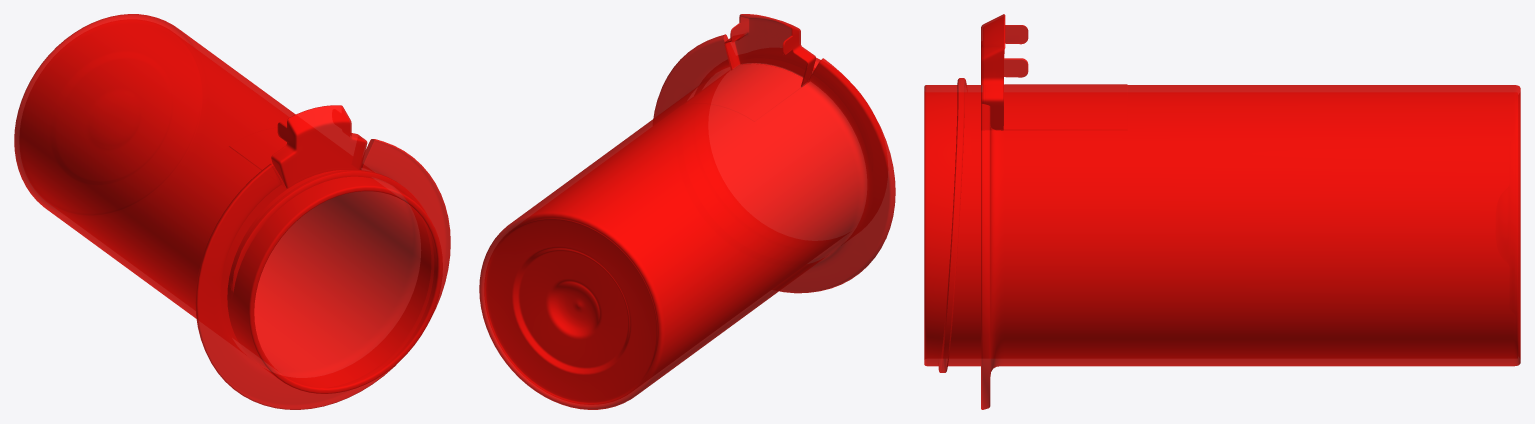
File: PillBottleBody.FBX
The picture shows the model from 3 angles, left to right: view 1: azimuth 30°, elevation 25°; view 2: azimuth 150°, elevation 25°; view 3: azimuth 270°, elevation 25°; orthographic projection. The views are drawn at different scales.
Visible parts, largest first — view 1: pillBottleBody; view 2: pillBottleBody; view 3: pillBottleBody.
Part boxes in pixels (<box>): pillBottleBody: <box>14,14,450,409</box>; pillBottleBody: <box>479,14,895,409</box>; pillBottleBody: <box>924,14,1520,409</box>.
Bounding box in the file's own units: 783 × 860 × 1265.
